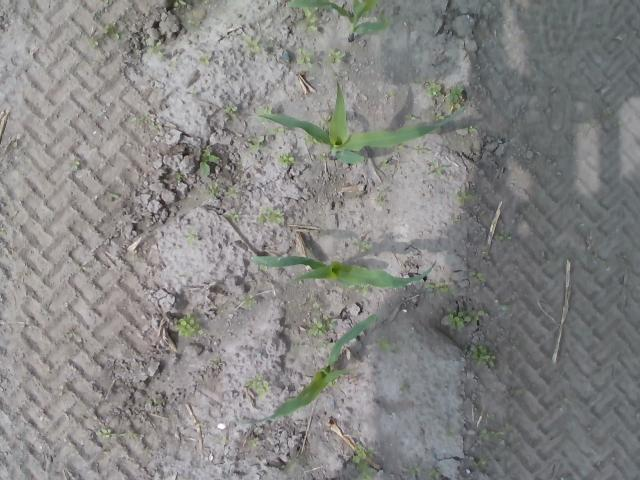Maize: (260, 80, 452, 166), (270, 314, 375, 420), (249, 253, 439, 290), (282, 0, 392, 43)
Weeds: (350, 439, 376, 480), (445, 310, 488, 332), (310, 302, 338, 335), (174, 312, 206, 337), (198, 144, 220, 178), (480, 422, 512, 444), (469, 343, 496, 368), (128, 110, 160, 130), (246, 374, 270, 400), (208, 181, 240, 198), (255, 206, 285, 224), (374, 335, 399, 354), (446, 85, 464, 111), (172, 0, 208, 12), (303, 7, 320, 32), (244, 35, 272, 50), (426, 283, 458, 296), (102, 24, 124, 40), (296, 45, 312, 65), (422, 80, 441, 96), (247, 134, 266, 150), (146, 40, 162, 58), (326, 48, 344, 64), (469, 270, 487, 286), (63, 153, 79, 169), (352, 240, 371, 253), (349, 284, 368, 296), (95, 426, 111, 440), (224, 207, 240, 221), (454, 192, 474, 202), (278, 152, 294, 164), (375, 191, 385, 210), (493, 231, 512, 241), (432, 161, 443, 176), (497, 302, 512, 313), (408, 463, 419, 477), (186, 15, 201, 25), (268, 125, 284, 134), (428, 467, 439, 480), (242, 294, 256, 304), (224, 105, 239, 114), (478, 458, 490, 469), (255, 106, 271, 114), (430, 114, 444, 122), (317, 340, 332, 347), (88, 39, 98, 48), (382, 159, 391, 169), (399, 384, 408, 392), (386, 90, 398, 96), (407, 112, 416, 120), (247, 440, 256, 448), (464, 126, 476, 132), (309, 136, 317, 145), (186, 232, 193, 242), (174, 171, 181, 180), (200, 56, 208, 63), (318, 154, 326, 160)
